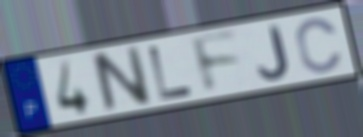4: (54, 57, 94, 118)
C: (294, 16, 345, 75)
F: (187, 29, 244, 97)
J: (256, 23, 292, 82)
L: (146, 43, 196, 102)
N: (88, 42, 155, 115)
